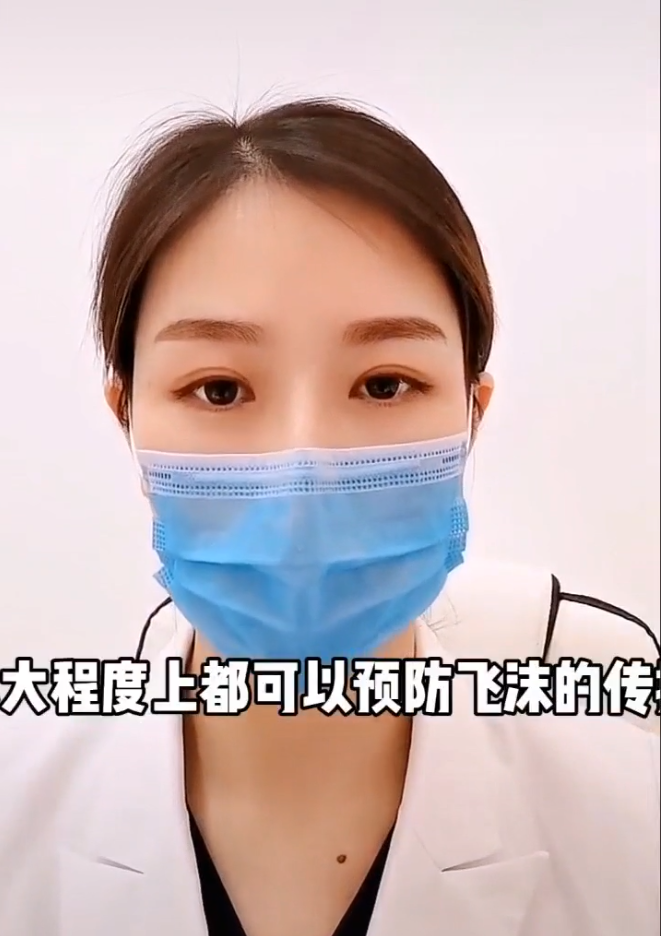face_mask: (137, 214, 462, 667)
